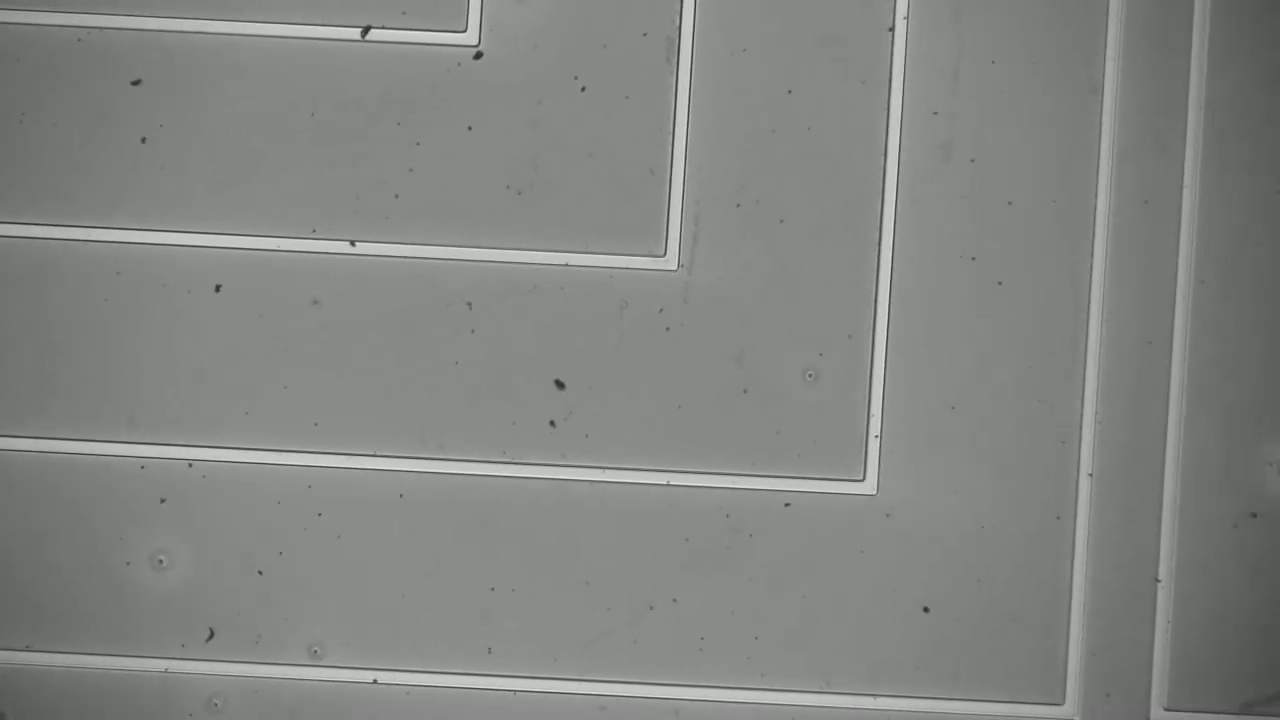stains_enbedded: (350, 17, 378, 47)
